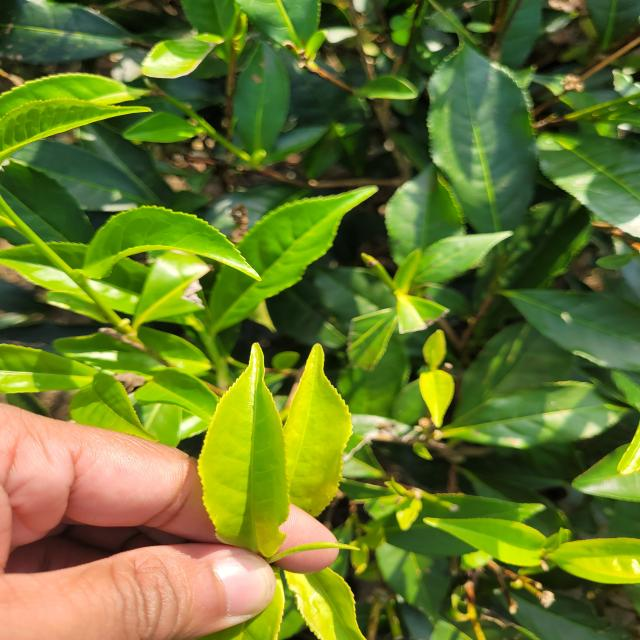Category B(2-4 days): (180, 321, 308, 580)
